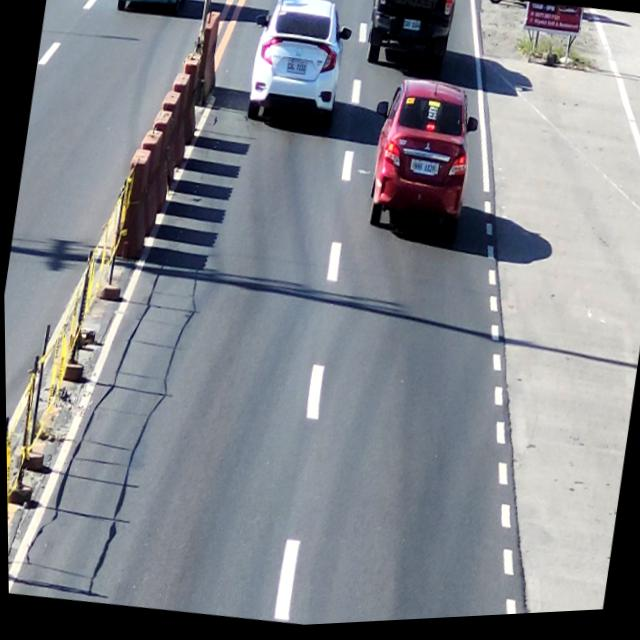Car: (352, 71, 493, 259), (241, 0, 357, 146), (363, 0, 461, 83), (112, 0, 195, 24)
License-Plate: (408, 161, 440, 187), (285, 57, 310, 84), (401, 19, 425, 41), (128, 0, 152, 6)
